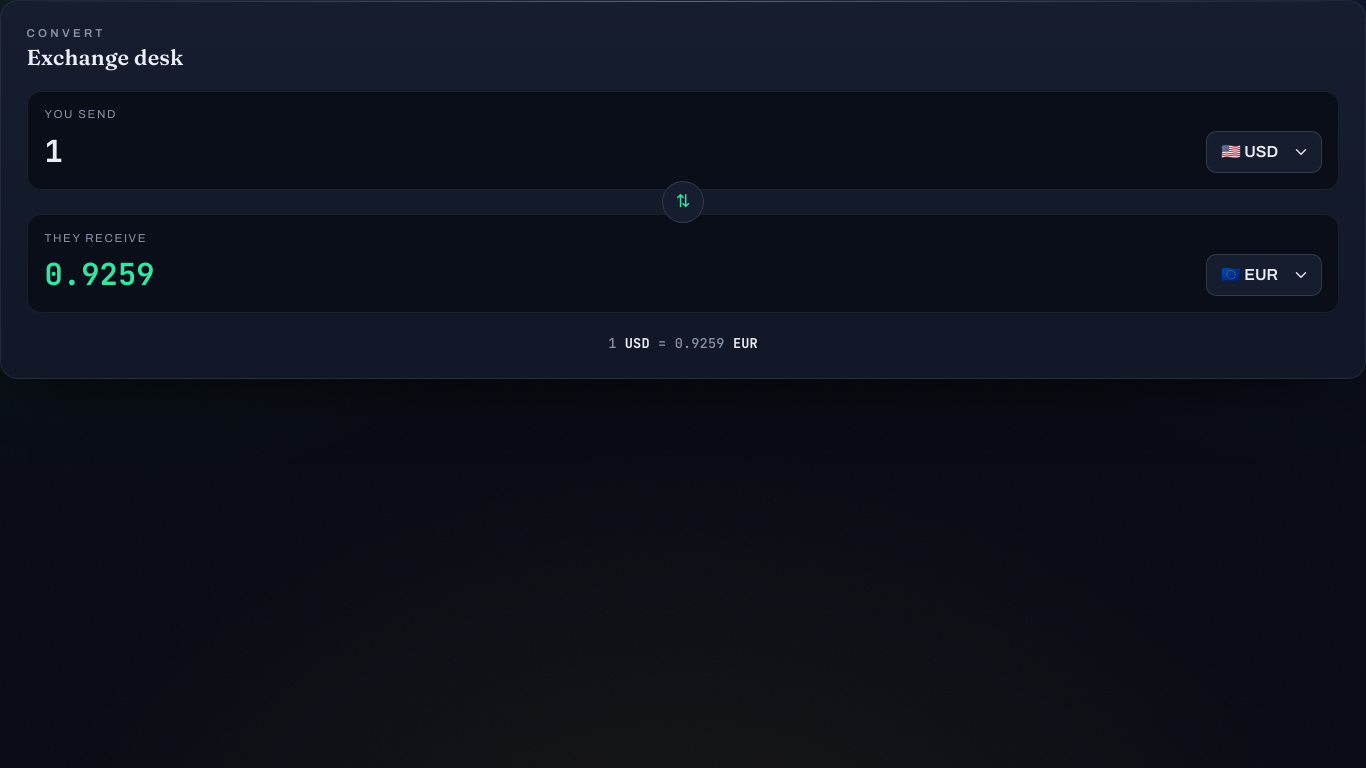
Test: Converter › lets the amount be cleared instead of snapping back to 0
The width and height of the screenshot is (1366, 768).
Clear the number field named "amount". click: (619, 152)
box: [44,129,1194,174]
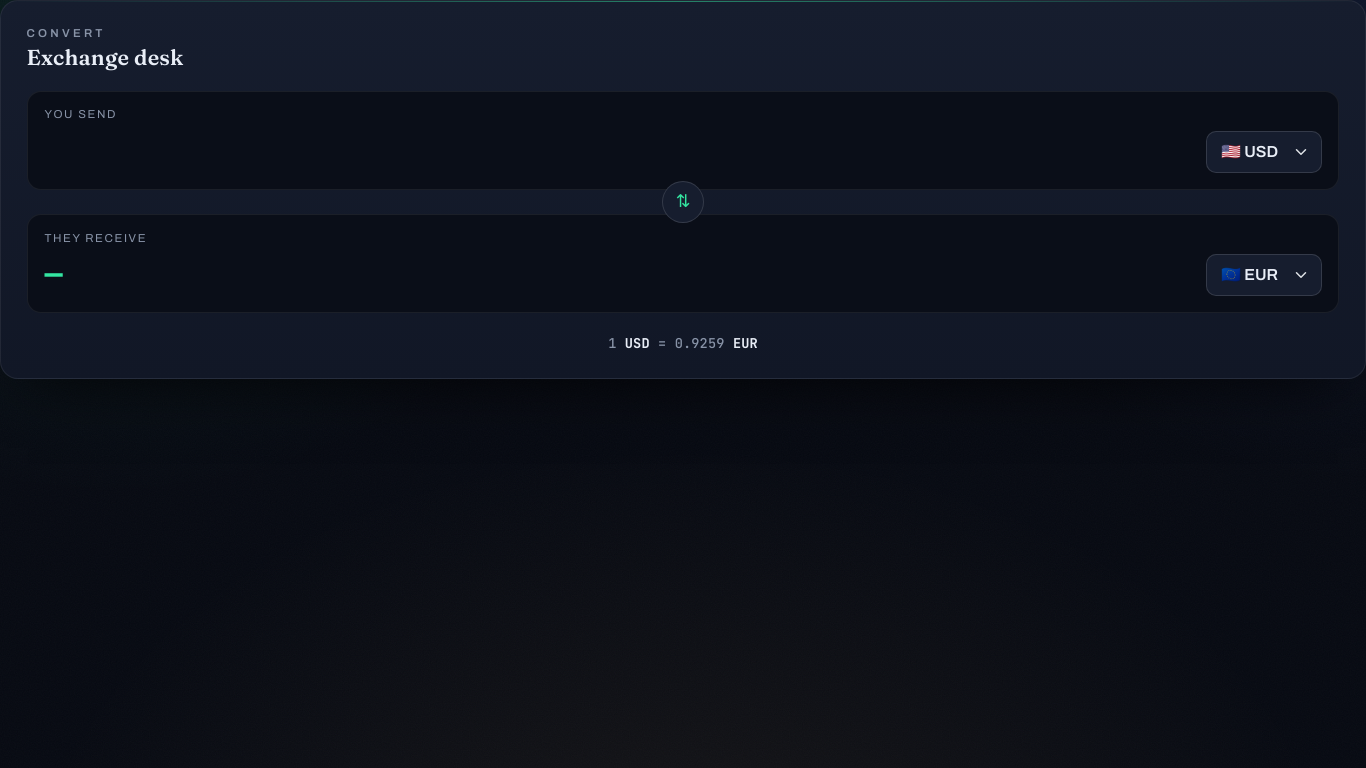
Result: the text with test id "result" reads "—" at [44,254,63,294]
